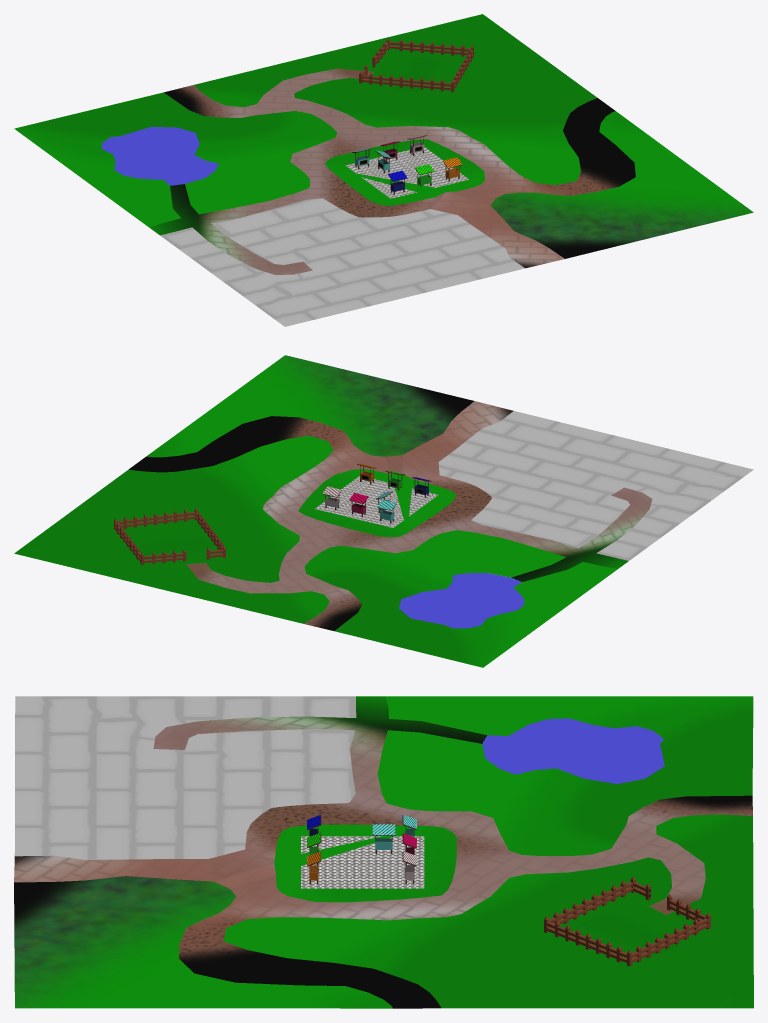
The model's file is Village.fbx.
3 views of the same model, one above another, from view 1: azimuth 30°, elevation 25°; view 2: azimuth 150°, elevation 25°; view 3: azimuth 270°, elevation 25° (orthographic). The views are drawn at different scales.
Visible parts, largest first — view 1: Path, Lake, MarketGround, Cube.003, MarketStands; view 2: Path, Lake, MarketGround, Cube.003, MarketStands; view 3: Path, Lake, MarketGround, Cube.003, MarketStands, MarketStands.001.
Boxes of the visible parts, left/top/right/bottom form: Path: left=14, top=14, right=753, bottom=326; Lake: left=101, top=126, right=218, bottom=185; MarketGround: left=345, top=147, right=468, bottom=198; Cube.003: left=359, top=38, right=473, bottom=92; MarketStands: left=352, top=135, right=462, bottom=194; Path: left=14, top=355, right=753, bottom=667; Lake: left=399, top=573, right=524, bottom=628; MarketGround: left=315, top=476, right=438, bottom=527; Cube.003: left=114, top=508, right=225, bottom=564; MarketStands: left=322, top=464, right=431, bottom=523; Path: left=14, top=696, right=753, bottom=1008; Lake: left=482, top=718, right=664, bottom=783; MarketGround: left=301, top=836, right=424, bottom=888; Cube.003: left=544, top=876, right=710, bottom=966; MarketStands: left=307, top=814, right=416, bottom=884; MarketStands.001: left=372, top=824, right=395, bottom=853.
Size of the model in its own units: 6279 by 245 by 6293.
